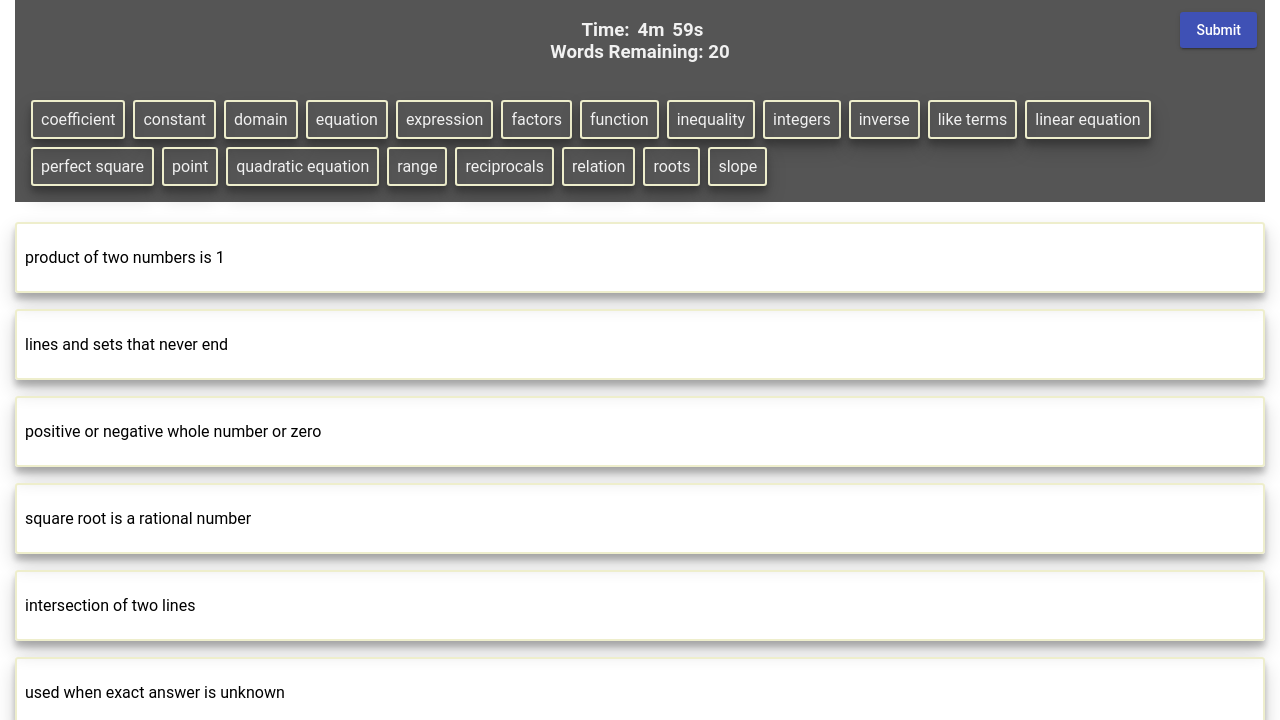
Test: Match test › Should show confirmation modal if submitted
Expected: the text "Time" is shown, [581, 19, 634, 41]
Click the button "Submit" at (1219, 30), box [1180, 12, 1257, 48]
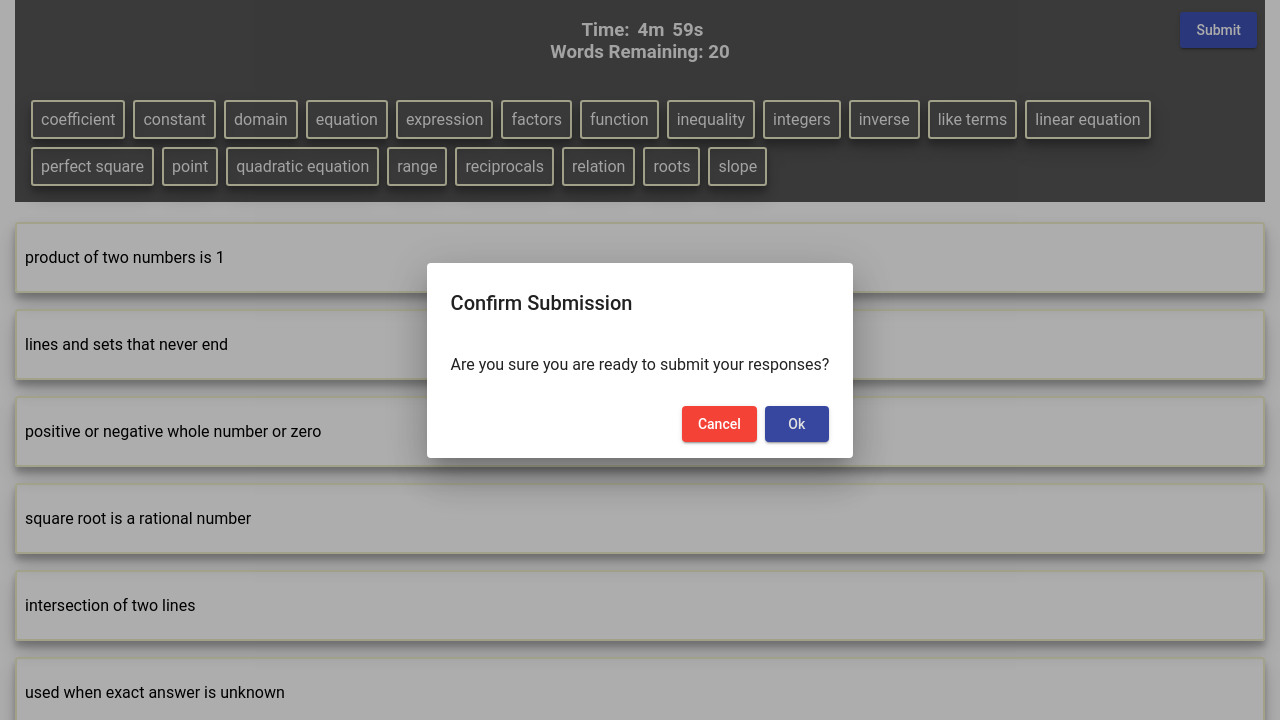
Now the heading "Confirm Submission" is shown, box [451, 290, 632, 314]
